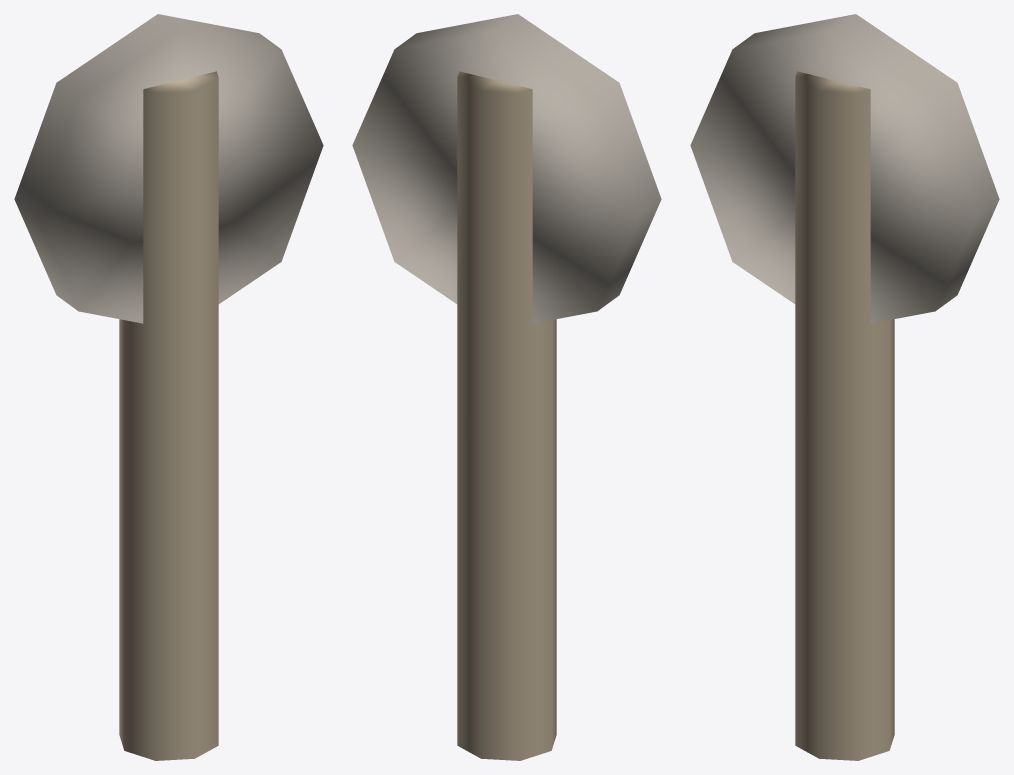
Rendered from targetPost.glb.
3 renders of one model, left to right at view 1: azimuth 30°, elevation 25°; view 2: azimuth 150°, elevation 25°; view 3: azimuth 330°, elevation 25°, orthographic.
Parts seen in each view (by area): view 1: post, target; view 2: post, target; view 3: post, target.
Boxes of the visible parts, <box> form: post: <box>119,71,218,760</box>; target: <box>14,14,323,323</box>; post: <box>457,71,556,760</box>; target: <box>352,14,661,323</box>; post: <box>795,71,894,760</box>; target: <box>690,14,999,323</box>.
Bounding box in the file's own units: 0.9 × 2.15 × 0.28.
